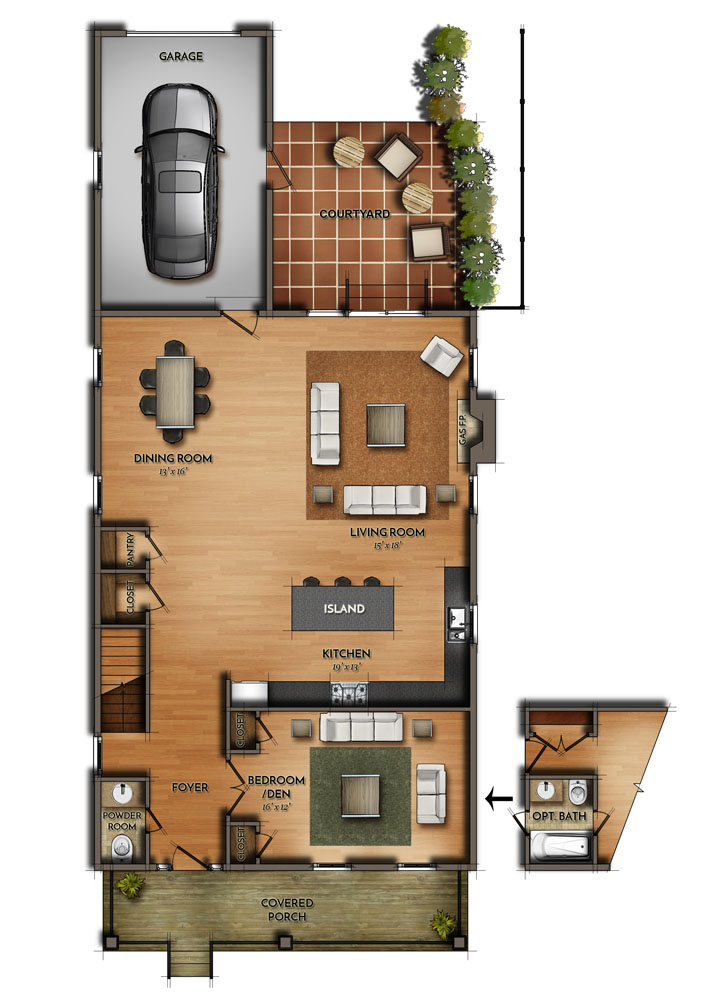door: (220, 765, 249, 808), (145, 802, 174, 845), (145, 578, 174, 621), (149, 526, 178, 569), (534, 729, 584, 753), (225, 314, 263, 341), (166, 842, 203, 864), (257, 716, 278, 750)
room: (87, 304, 484, 714), (85, 302, 482, 712), (223, 700, 481, 874), (521, 769, 605, 876)
window: (124, 26, 242, 38), (89, 148, 106, 190), (465, 473, 482, 515), (466, 603, 483, 645), (88, 474, 105, 516), (88, 346, 105, 388), (310, 861, 355, 876), (393, 859, 438, 874), (89, 733, 103, 780)
